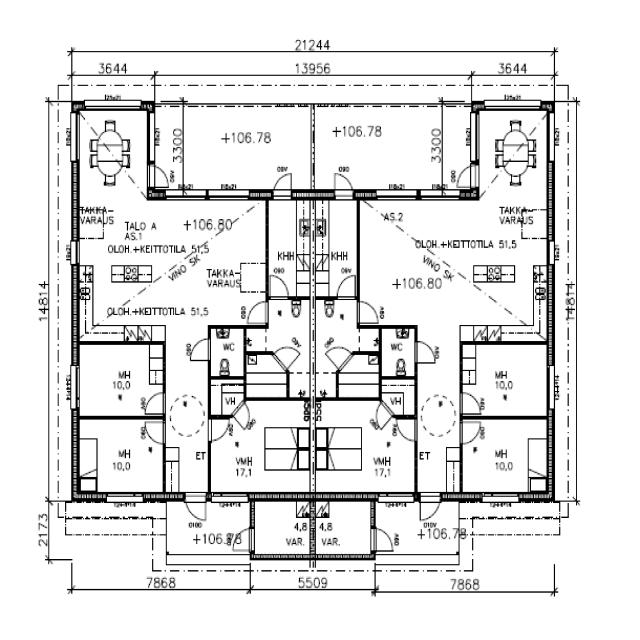door: (418, 492, 442, 522), (184, 492, 208, 522), (142, 418, 168, 445), (458, 389, 484, 415), (370, 526, 396, 552), (230, 525, 254, 553), (394, 415, 418, 443), (356, 298, 381, 324), (188, 336, 212, 363), (458, 417, 482, 444), (413, 338, 437, 365), (142, 389, 167, 414), (208, 416, 232, 442), (148, 162, 171, 189), (246, 299, 269, 326), (272, 170, 294, 198), (274, 345, 300, 368), (268, 272, 290, 299), (332, 170, 354, 197), (336, 273, 358, 299), (456, 164, 478, 188), (327, 345, 347, 369), (502, 126, 523, 146)
window: (544, 357, 556, 414), (418, 188, 463, 202), (374, 188, 418, 202), (206, 189, 252, 202), (167, 188, 210, 201), (70, 362, 82, 408), (483, 490, 520, 503), (105, 490, 142, 502), (70, 108, 78, 162), (213, 489, 248, 501), (69, 239, 80, 265)
zone: (358, 195, 549, 338), (78, 190, 271, 325), (314, 104, 479, 195), (179, 103, 311, 188), (317, 395, 416, 494), (210, 400, 308, 490), (460, 417, 552, 496), (76, 416, 165, 495), (76, 343, 165, 418), (460, 343, 550, 417), (79, 111, 151, 192), (313, 198, 358, 299), (266, 198, 311, 298), (312, 500, 375, 558), (314, 297, 366, 367), (251, 500, 311, 558), (164, 430, 210, 496), (266, 296, 310, 364), (151, 104, 183, 189), (337, 353, 381, 398), (244, 353, 288, 397), (209, 326, 245, 378), (381, 326, 416, 377), (379, 378, 416, 417), (208, 380, 246, 415), (314, 372, 338, 398), (288, 371, 310, 398), (459, 516, 473, 534)
